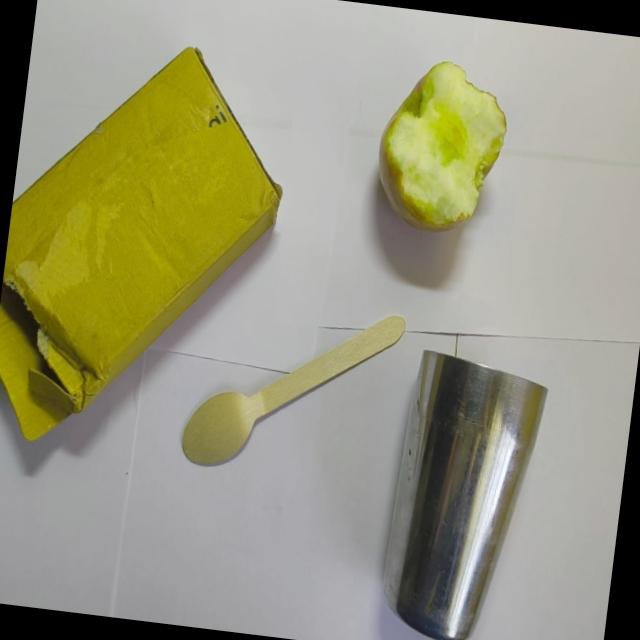Apple-Bio: (367, 51, 516, 243)
CardBoard-Bio: (0, 19, 302, 472)
Steel-NonBio: (372, 343, 554, 640)
Wooden Spoon-Bio: (177, 286, 408, 490)
